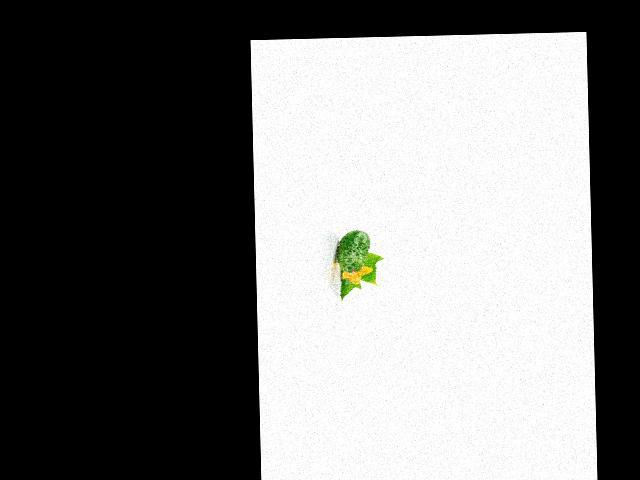cucumber: (336, 229, 370, 272)
